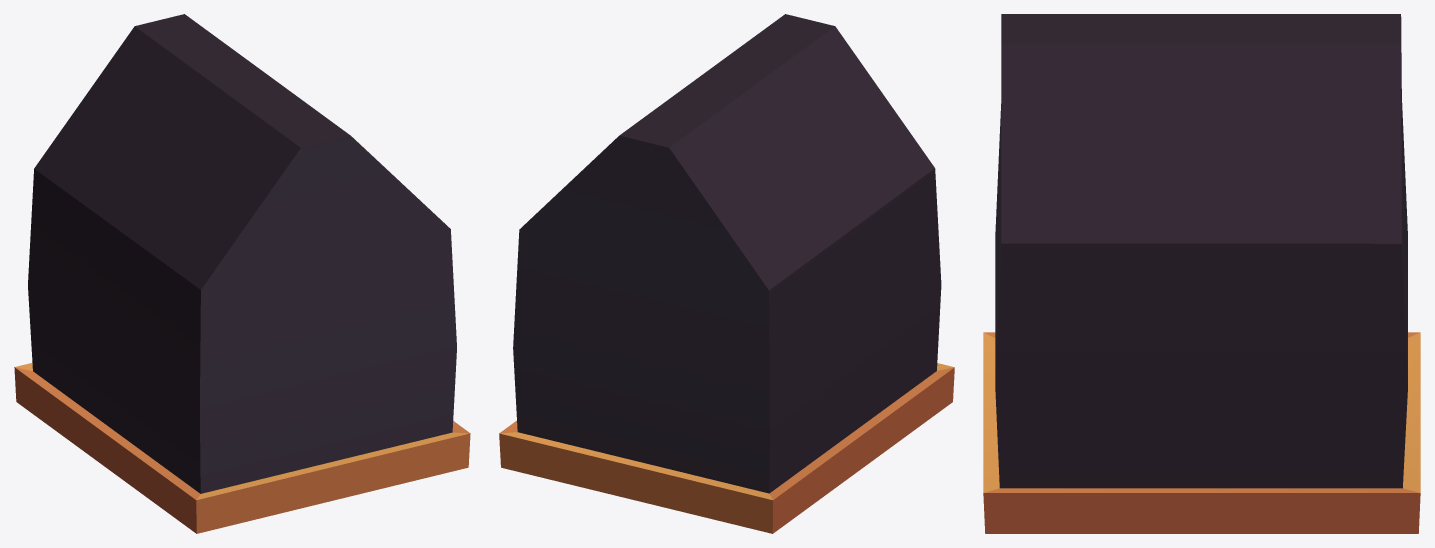
The model's file is House01_Black_Wood.glb.
3 renders of one model, left to right at view 1: azimuth 30°, elevation 25°; view 2: azimuth 150°, elevation 25°; view 3: azimuth 270°, elevation 25°, orthographic. The views are drawn at different scales.
Visible parts, largest first — view 1: House01_Black_Wood; view 2: House01_Black_Wood; view 3: House01_Black_Wood.
Part boxes in pixels (left/top/right/bottom): House01_Black_Wood: left=14, top=14, right=470, bottom=533; House01_Black_Wood: left=499, top=14, right=954, bottom=533; House01_Black_Wood: left=983, top=14, right=1420, bottom=533.
Size of the model in its own units: 2.04 by 2.51 by 2.34.
Materials: 1 (1 with a texture image).
